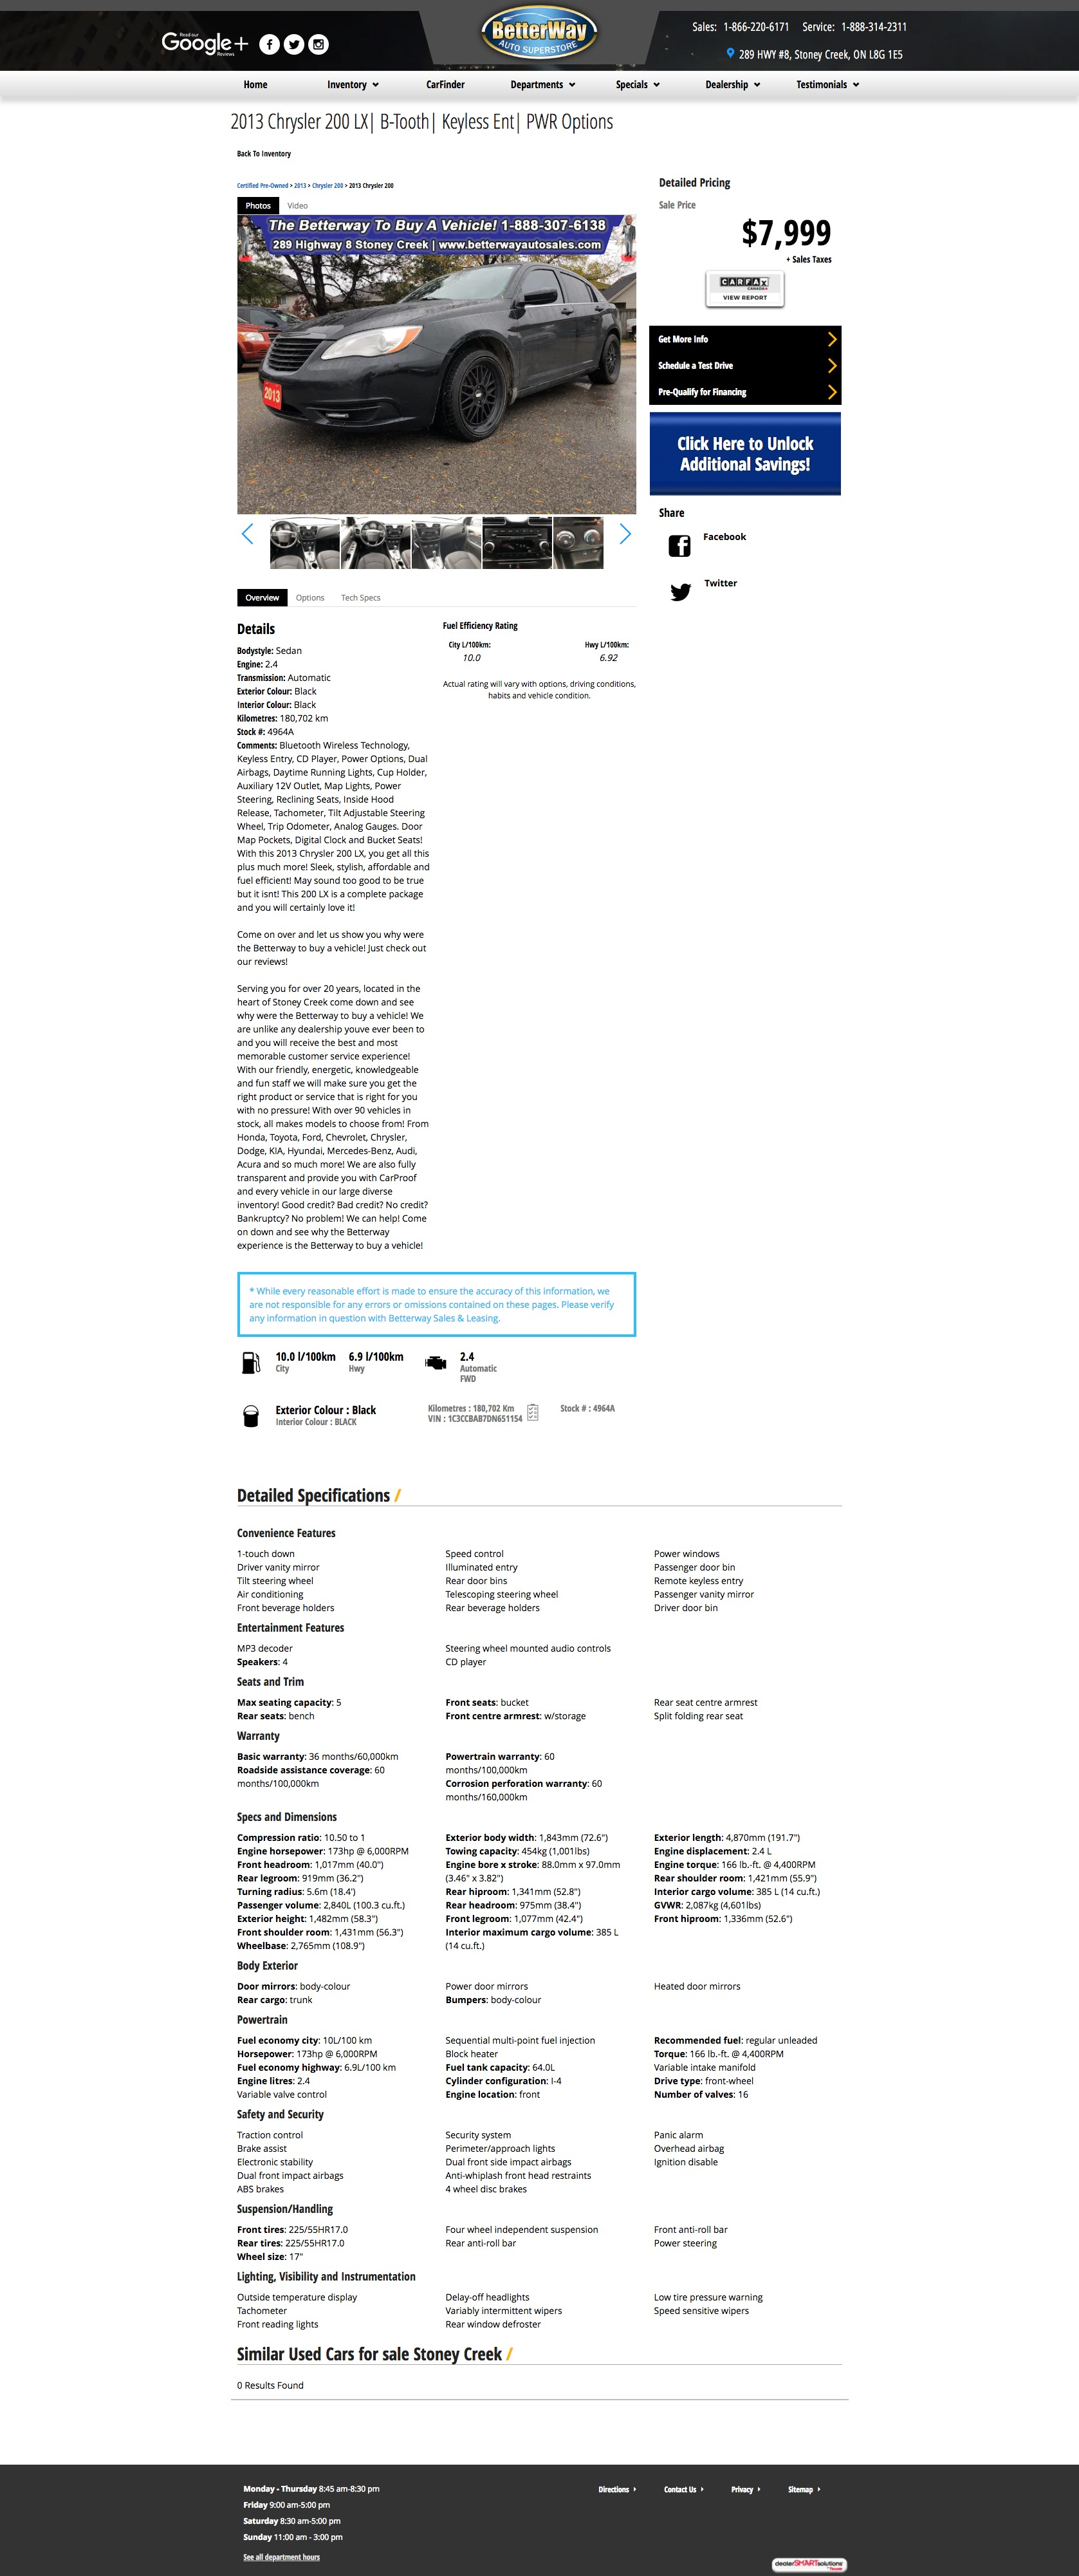car: (621, 524, 632, 545)
